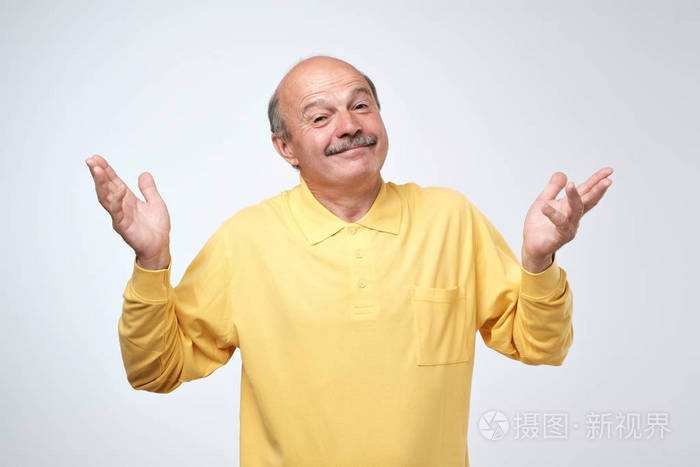no-phone: (83, 152, 175, 260), (521, 163, 616, 262)
